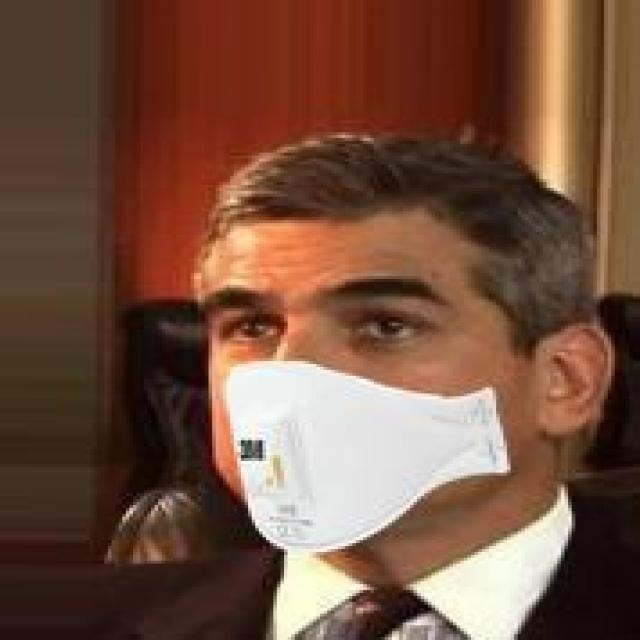mask: (176, 215, 565, 572)
